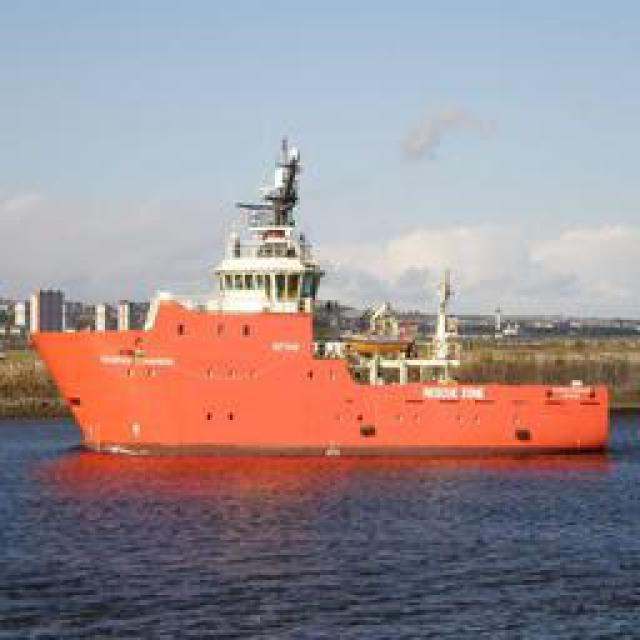Ship: (38, 107, 613, 465)
